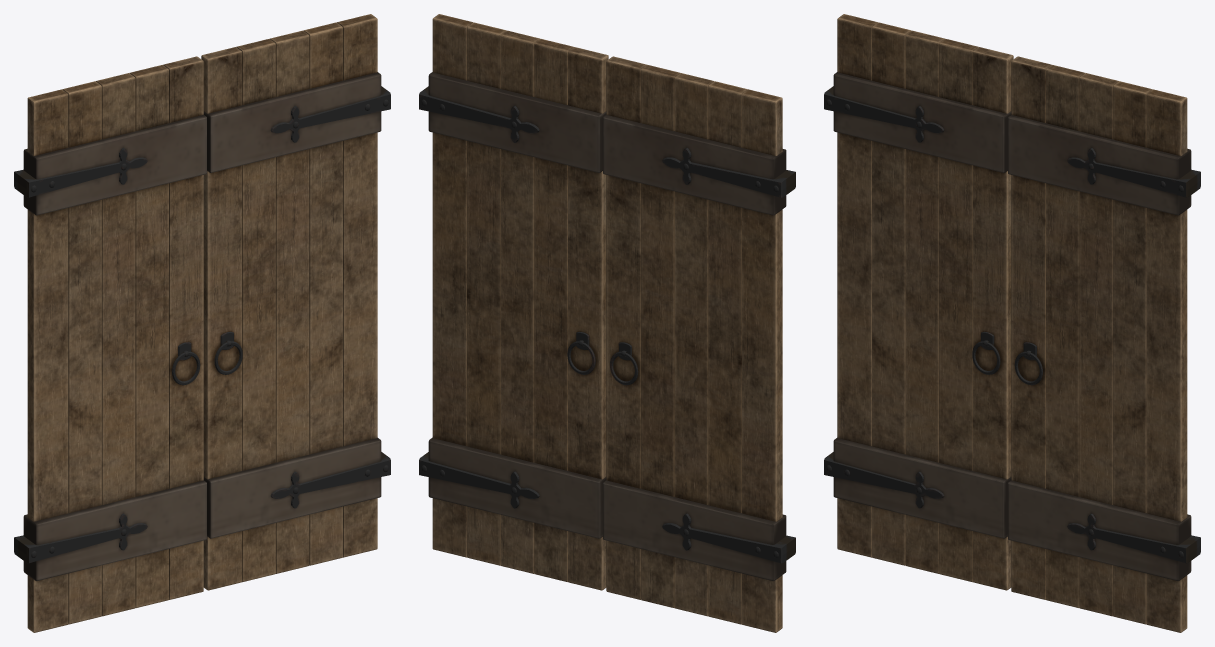
The model's file is BW_Merchant01_DeliveryDoors.fbx.
3 views of the same model, side by side, from view 1: azimuth 30°, elevation 25°; view 2: azimuth 150°, elevation 25°; view 3: azimuth 330°, elevation 25° (orthographic).
Parts seen in each view (by area): view 1: BW_Merchant01_DeliveryDoors; view 2: BW_Merchant01_DeliveryDoors; view 3: BW_Merchant01_DeliveryDoors.
Boxes of the visible parts, x1,y1,x2,y2 form: BW_Merchant01_DeliveryDoors: (14,14,390,632); BW_Merchant01_DeliveryDoors: (419,14,795,632); BW_Merchant01_DeliveryDoors: (824,14,1200,632).
Size of the model in its own units: 1.69 by 2.36 by 0.1318.
